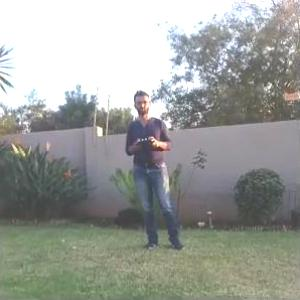follow: (123, 86, 192, 252)
